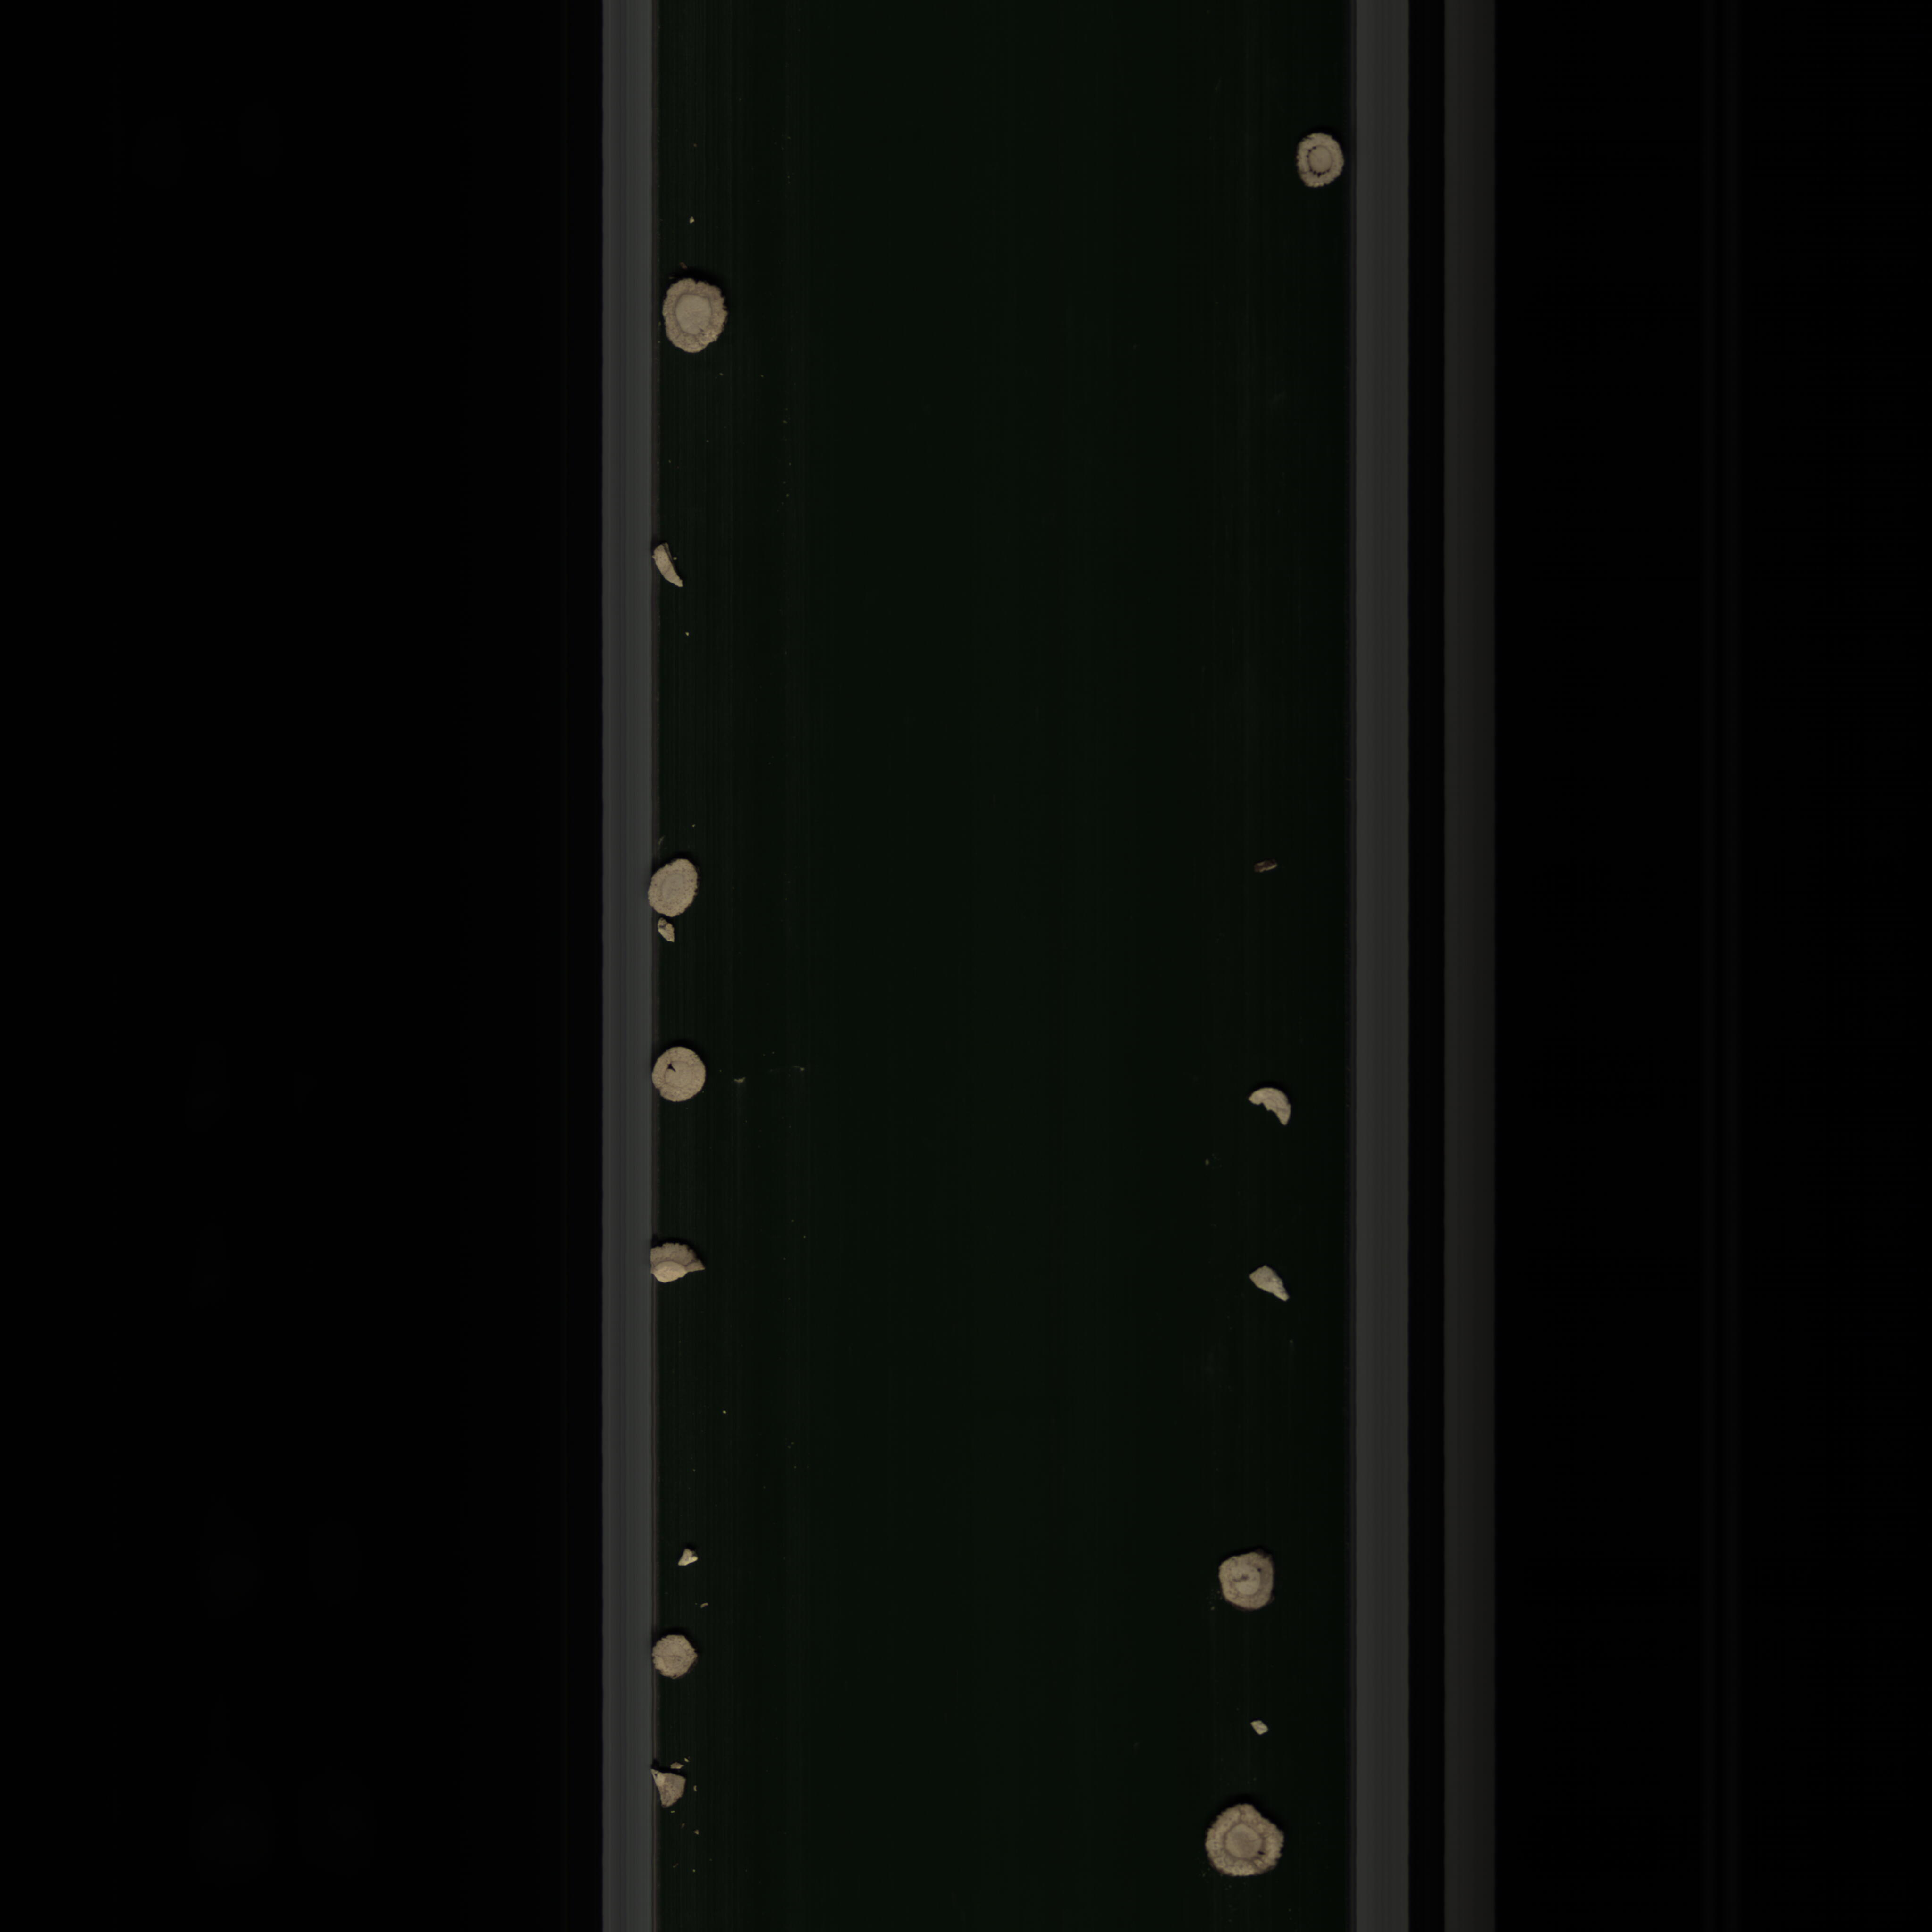debris: (644, 1238, 718, 1295), (1246, 1083, 1295, 1138), (646, 1759, 694, 1815), (1247, 1260, 1295, 1311), (653, 538, 688, 593), (678, 1545, 701, 1580)
hole: (1192, 1787, 1295, 1884), (649, 1046, 715, 1106)
